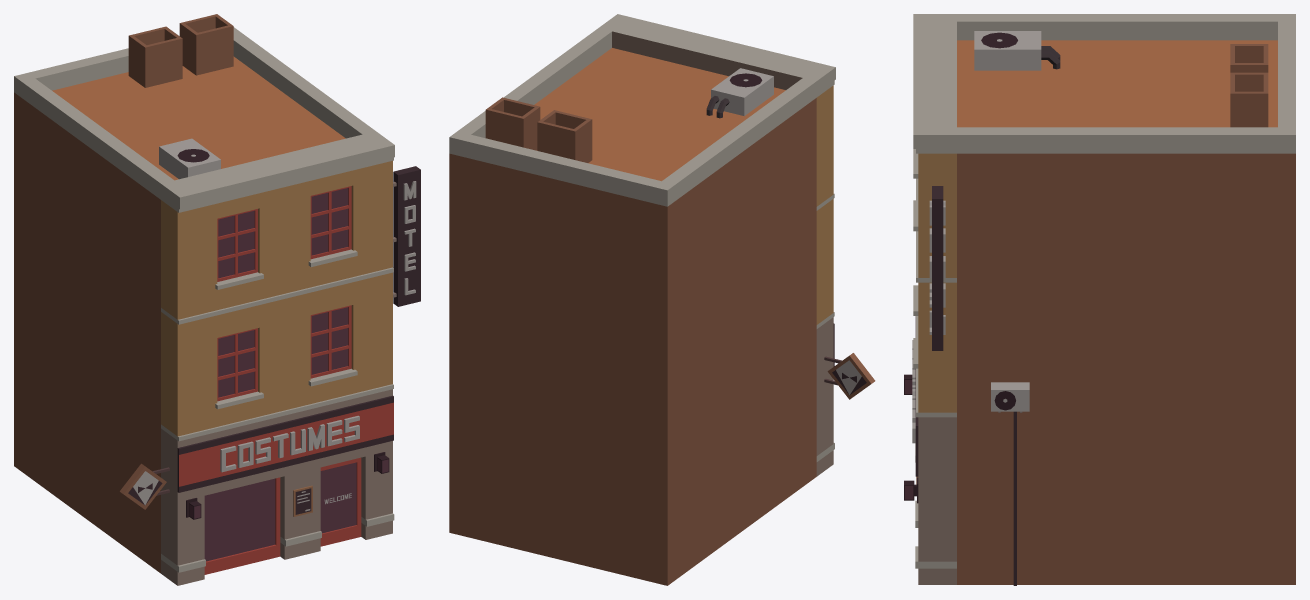
File: Building_18.fbx
3 renders of one model, left to right at view 1: azimuth 30°, elevation 25°; view 2: azimuth 150°, elevation 25°; view 3: azimuth 270°, elevation 25°, orthographic. The views are drawn at different scales.
Visible parts, largest first — view 1: Building_18, Building_18LP; view 2: Building_18; view 3: Building_18, Building_18LP.
Boxes of the visible parts, x1,y1,x2,y2 form: Building_18: (14, 14, 420, 585); Building_18LP: (128, 181, 416, 561); Building_18: (449, 14, 875, 585); Building_18: (904, 14, 1295, 585); Building_18LP: (905, 200, 945, 499).
Bounding box in the file's own units: 9.61 × 12.81 × 9.53.
